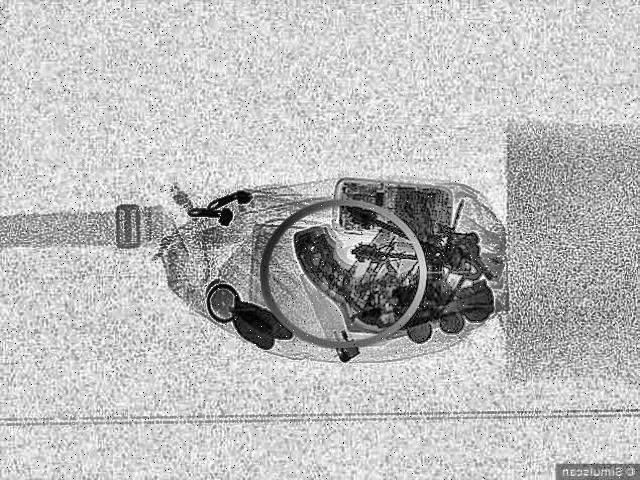Gun: (291, 227, 493, 334)
